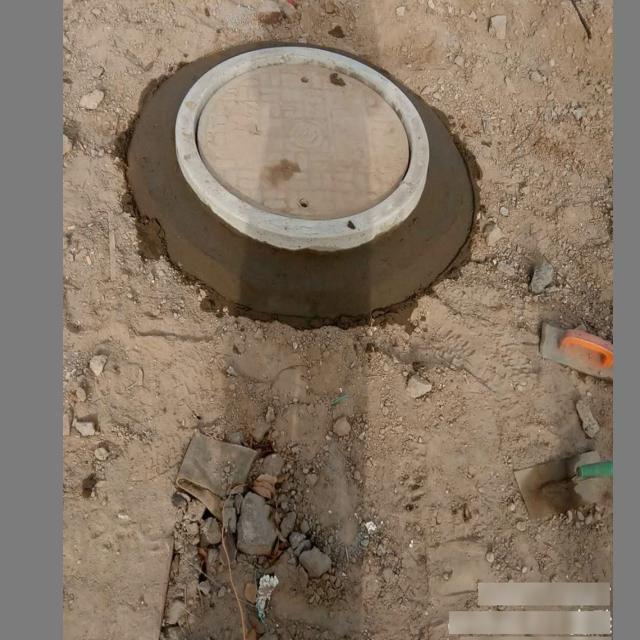good: (175, 45, 431, 250)
